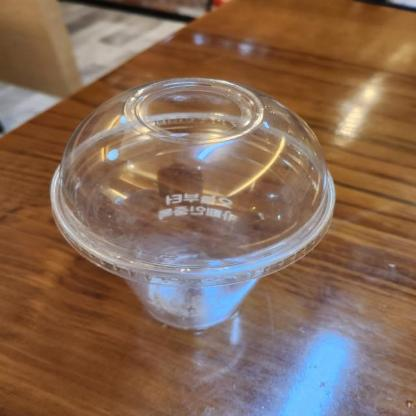Plastic Cup: (39, 70, 339, 286)
